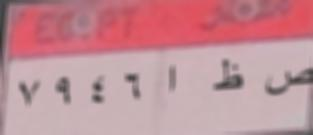4: (83, 76, 112, 114)
6: (123, 66, 149, 108)
7: (15, 73, 43, 112)
9: (54, 73, 77, 113)
Thaa: (210, 58, 247, 98)
alif: (163, 59, 189, 98)
saad: (256, 64, 313, 95)
